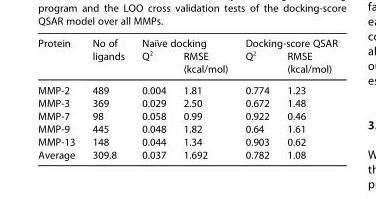table: (37, 37, 337, 160)
table column: (174, 37, 235, 160), (277, 37, 337, 160), (83, 37, 132, 160), (37, 37, 83, 160), (132, 37, 174, 160), (235, 37, 277, 160)
table column header: (37, 37, 337, 79)
table row: (37, 48, 337, 79), (37, 79, 337, 96), (37, 96, 337, 109), (37, 109, 337, 122), (37, 122, 337, 135), (37, 135, 337, 148), (37, 148, 337, 160), (37, 37, 337, 48)
table spanning cell: (83, 37, 132, 79), (37, 37, 83, 79), (132, 37, 235, 48), (235, 37, 337, 48)
